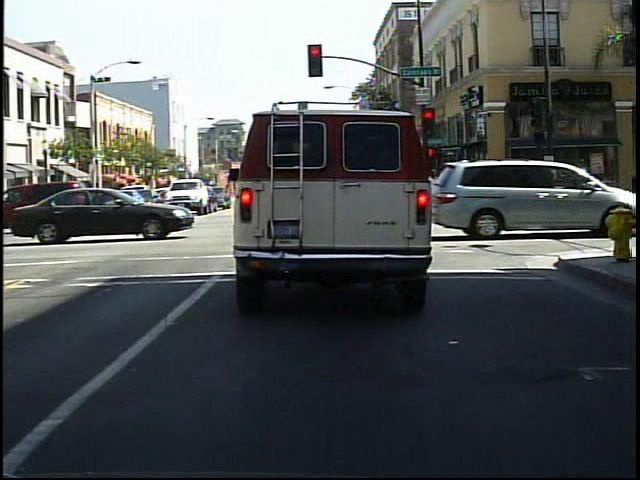person: (531, 158, 552, 210), (511, 166, 531, 210)
